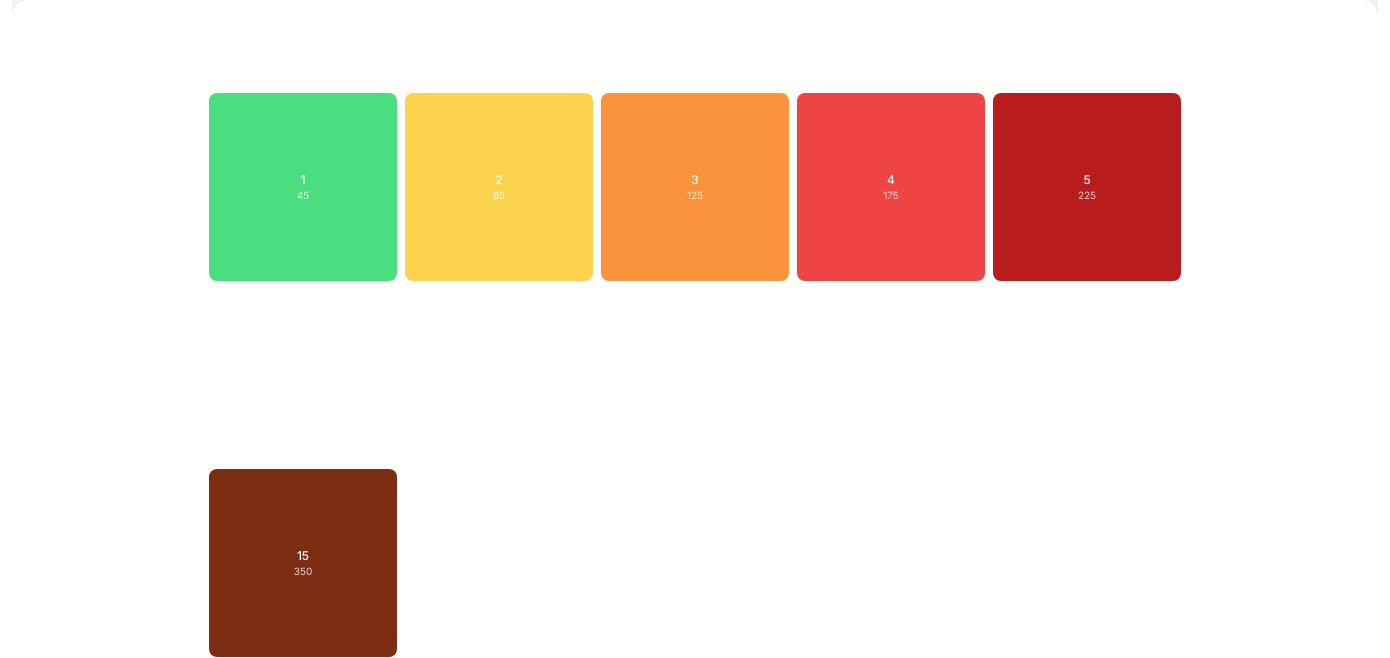
Test case: CalendarHeatmap › Tooltip Display › shows tooltip on hover for days with data
# Hover over the day
Hover over the button with test id "calendar-day-2024-01-01" at (303,187), box [209,93,397,281]
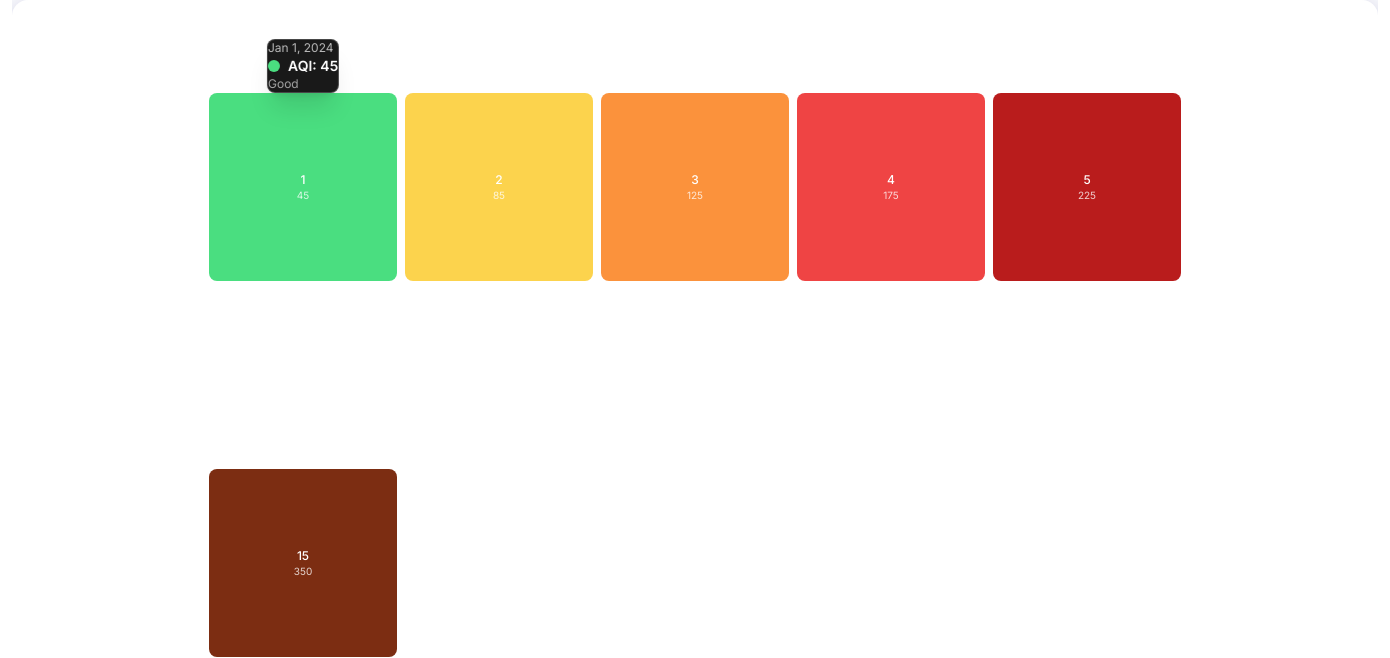
expect the element with test id "calendar-tooltip" shows "AQI: 45": met, box [267,39,339,93]
expect the element with test id "calendar-tooltip" shows "Good": met, box [268,76,299,91]
